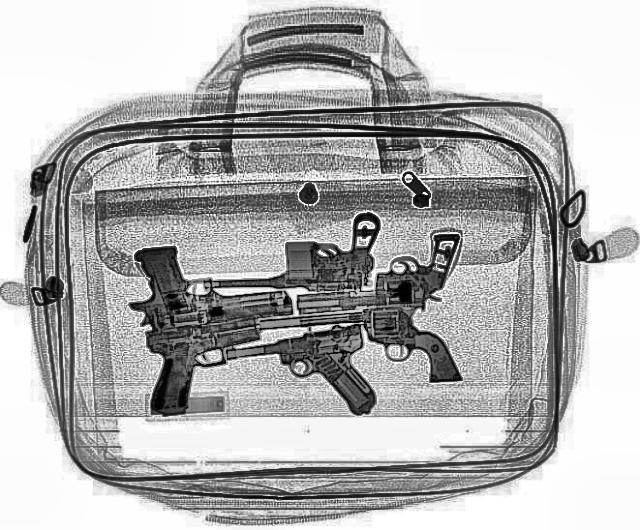Gun: (255, 302, 463, 396), (114, 232, 296, 338), (218, 319, 382, 433), (133, 313, 274, 418), (204, 214, 380, 294), (290, 232, 462, 312)
